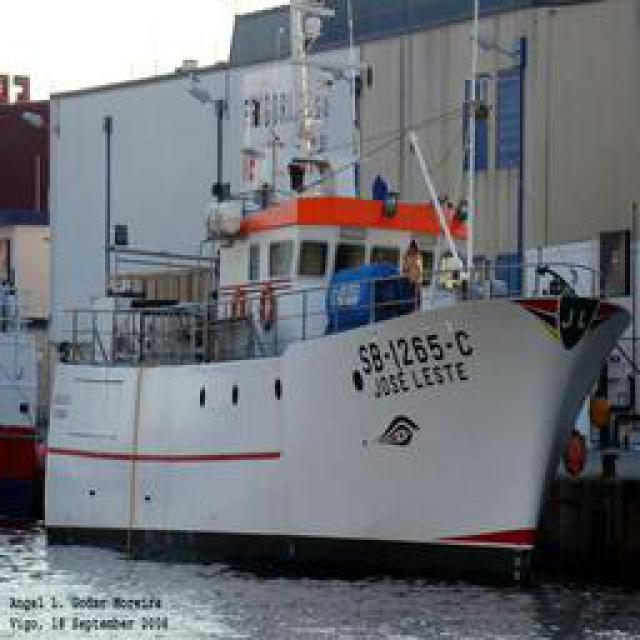Ship: (36, 77, 631, 570)
